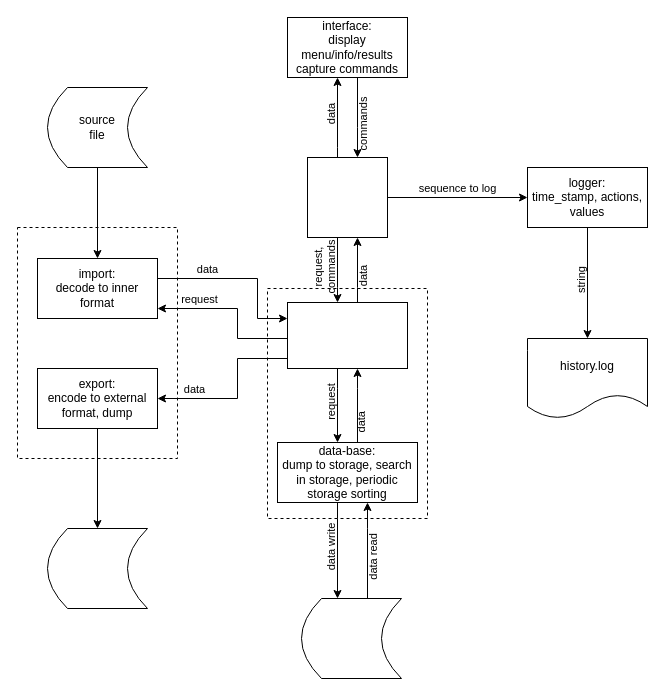
Image size: 665x696. Some labels were removed from this diagram. Here are the shapes that lost their labels. From the top down, the centre of each, then its label:
At [347,197]: "core: commutating node".
At [347,335]: "data-manager: transfer/analyze data".
At [97,568]: "exported file".
At [351,638]: "data storage".
